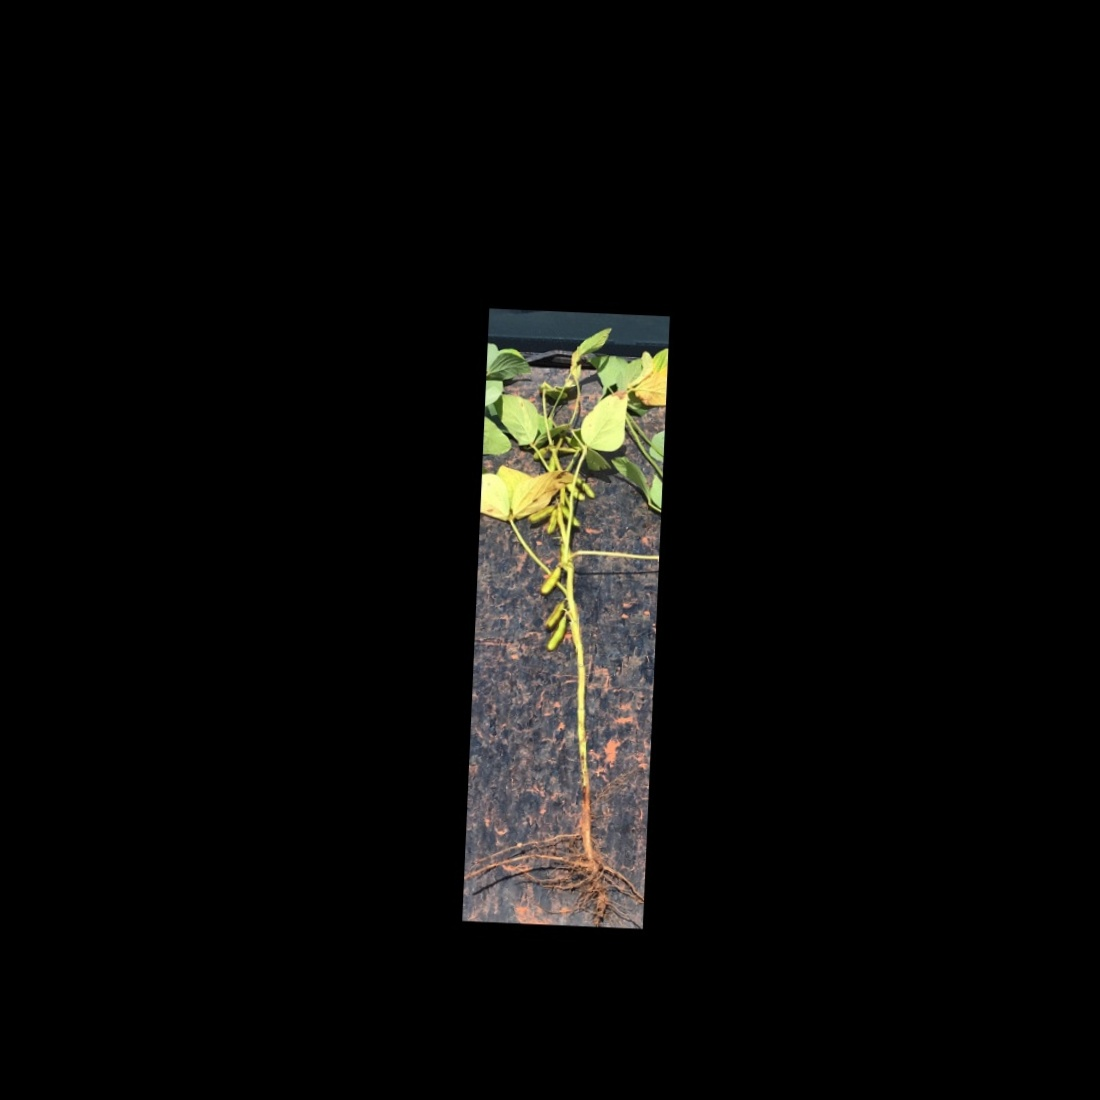pod: (544, 611, 572, 654), (538, 563, 567, 600), (542, 601, 567, 632), (560, 501, 586, 528), (573, 475, 599, 502), (524, 504, 556, 525), (562, 479, 586, 505), (529, 442, 553, 460)
soy: (468, 326, 661, 907)
